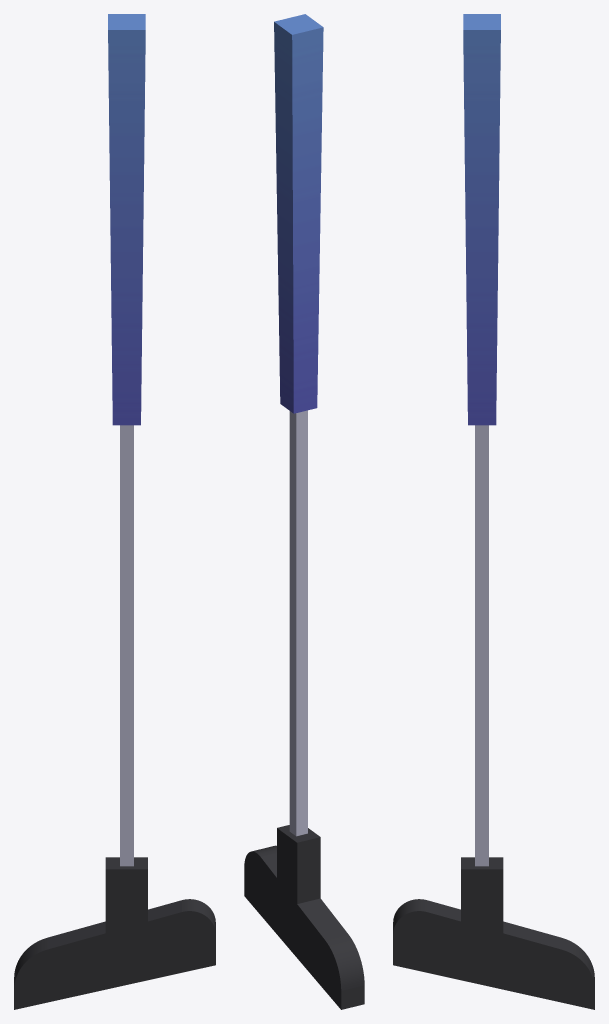
The model's file is club-blue.fbx.
3 renders of one model, left to right at view 1: azimuth 90°, elevation 25°; view 2: azimuth 210°, elevation 25°; view 3: azimuth 270°, elevation 25°, orthographic. The views are drawn at different scales.
Visible parts, largest first — view 1: club_blue; view 2: club_blue; view 3: club_blue.
Boxes of the visible parts, <box> form: club_blue: <box>14,14,215,1009</box>; club_blue: <box>244,14,364,1009</box>; club_blue: <box>393,14,594,1009</box>.
Bounding box in the file's own units: 3.45 × 98.99 × 18.44.
Materials: 1 (1 with a texture image).
